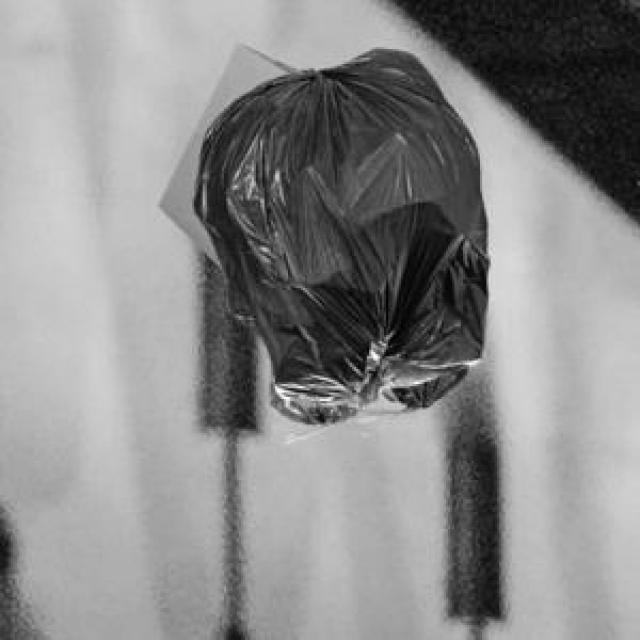miscellaneous trash: (190, 45, 484, 405), (267, 363, 465, 440)
paper: (154, 41, 297, 260)
